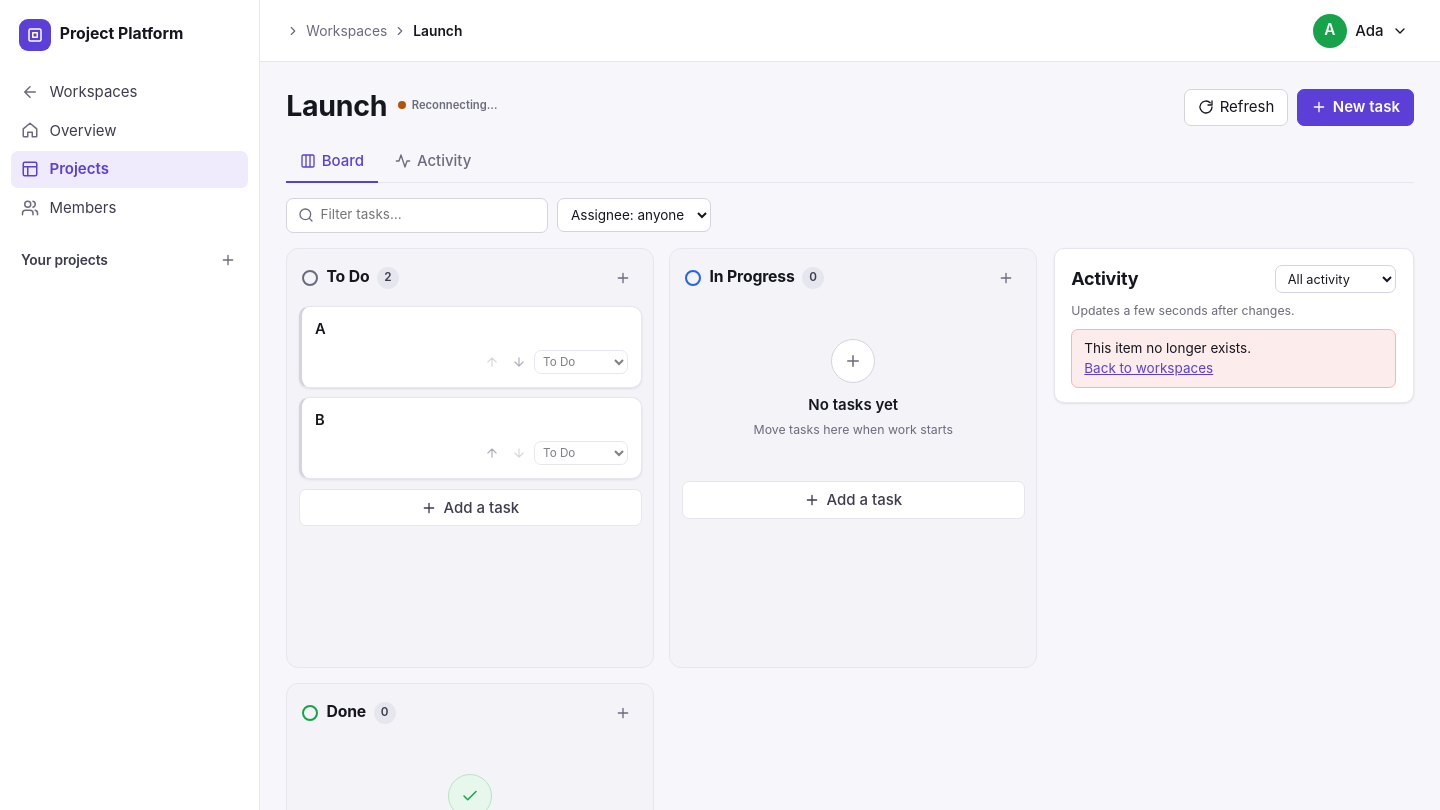
Scenario: board › reports a conflicting move and refreshes instead of retrying
Expected: the heading "Launch" is shown, [286, 84, 387, 126]
What coordinates should you click on to do the following:
click the button named "Move A down"
I would click on:
 (519, 362)
Its box is [506, 349, 532, 375].
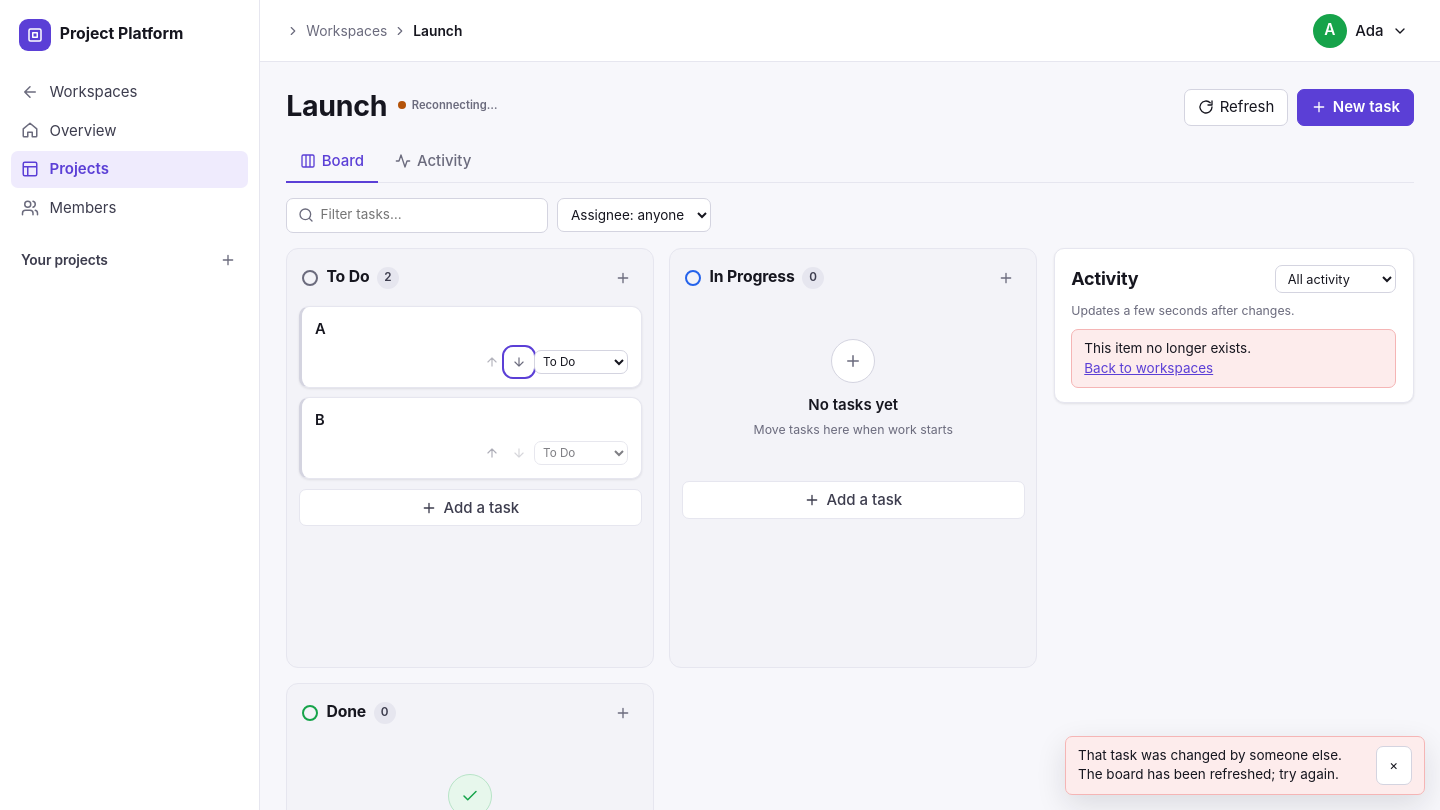
Now the text "changed by someone else" is shown, box [1078, 747, 1342, 782]
